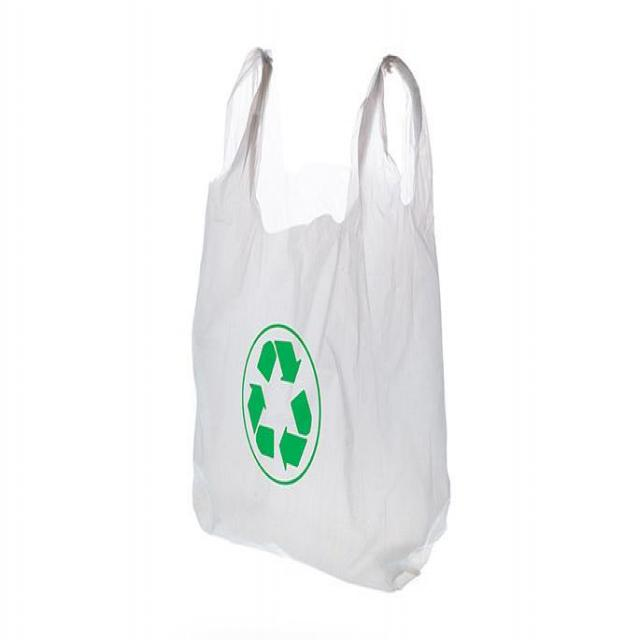plastic_bag: (185, 43, 464, 613)
